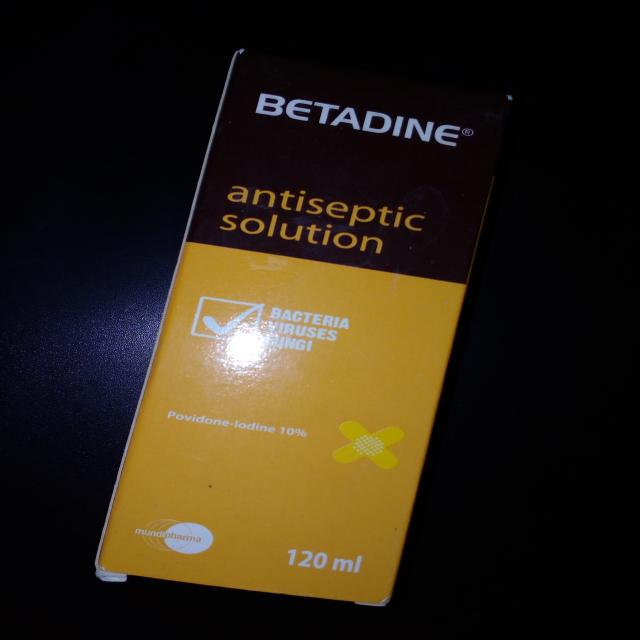Medicine: (86, 36, 517, 608)
